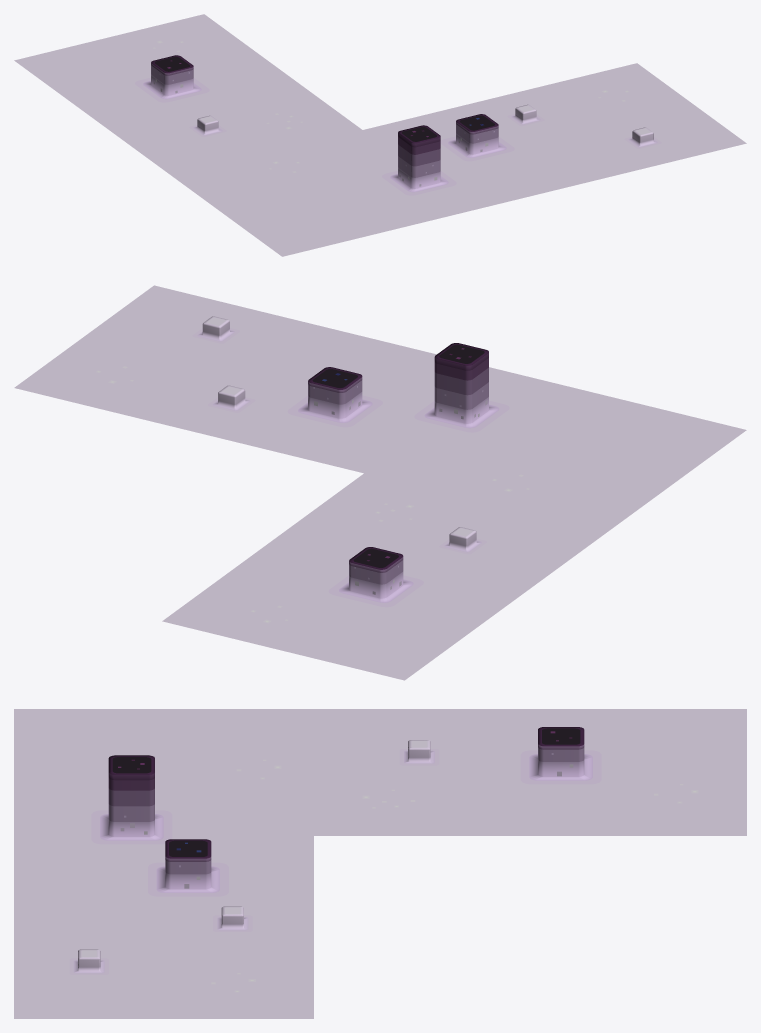
The model's file is C_special1_out_RU.fbx.
The picture shows the model from 3 angles, top to bottom: view 1: azimuth 30°, elevation 25°; view 2: azimuth 150°, elevation 25°; view 3: azimuth 270°, elevation 25°; orthographic projection. The views are drawn at different scales.
Visible parts, largest first — view 1: C_special1_out_RU; view 2: C_special1_out_RU; view 3: C_special1_out_RU.
Part boxes in pixels (bbox=[...]): C_special1_out_RU: bbox=[14, 14, 746, 256]; C_special1_out_RU: bbox=[14, 285, 746, 680]; C_special1_out_RU: bbox=[14, 709, 746, 1018].
Size of the model in its own units: 127 by 12.29 by 127.
